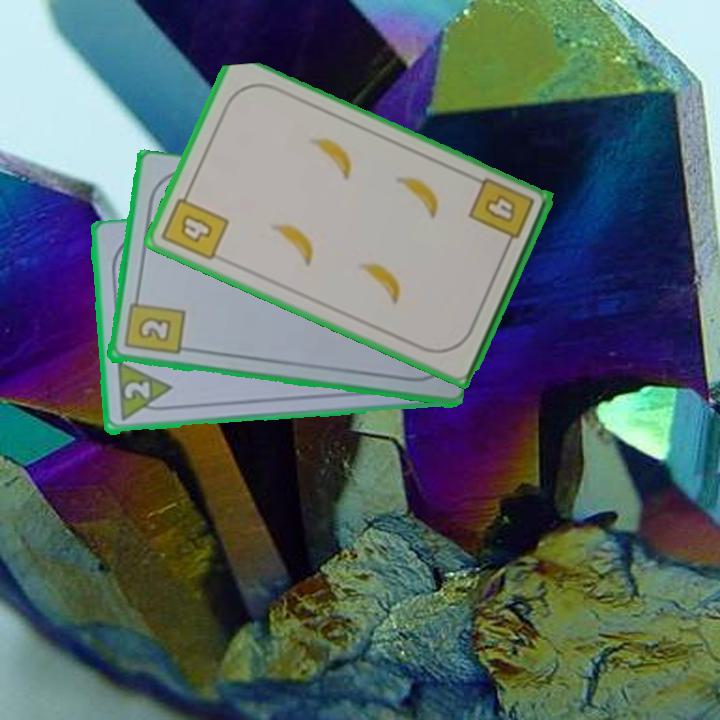2b: (120, 291, 186, 359)
2p: (113, 360, 176, 425)
4b: (158, 185, 232, 264), (465, 174, 537, 254)
